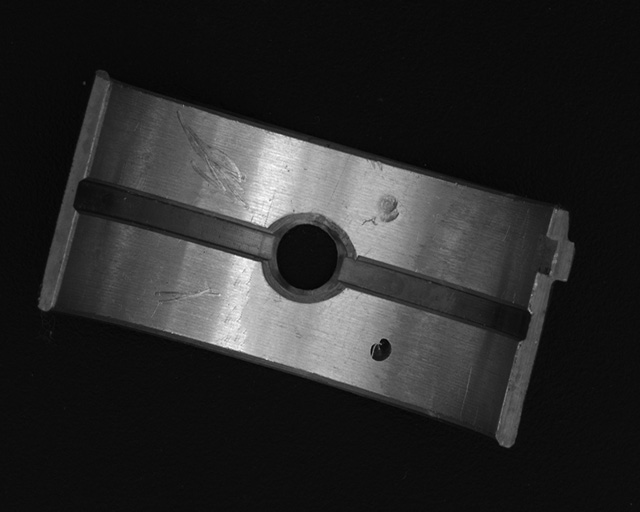blot: (369, 337, 393, 362)
bruise: (362, 193, 399, 225), (365, 159, 385, 173)
gap: (75, 178, 274, 258), (342, 257, 528, 342)
hole: (266, 215, 346, 303)
nick: (178, 110, 252, 213), (154, 285, 222, 303)
